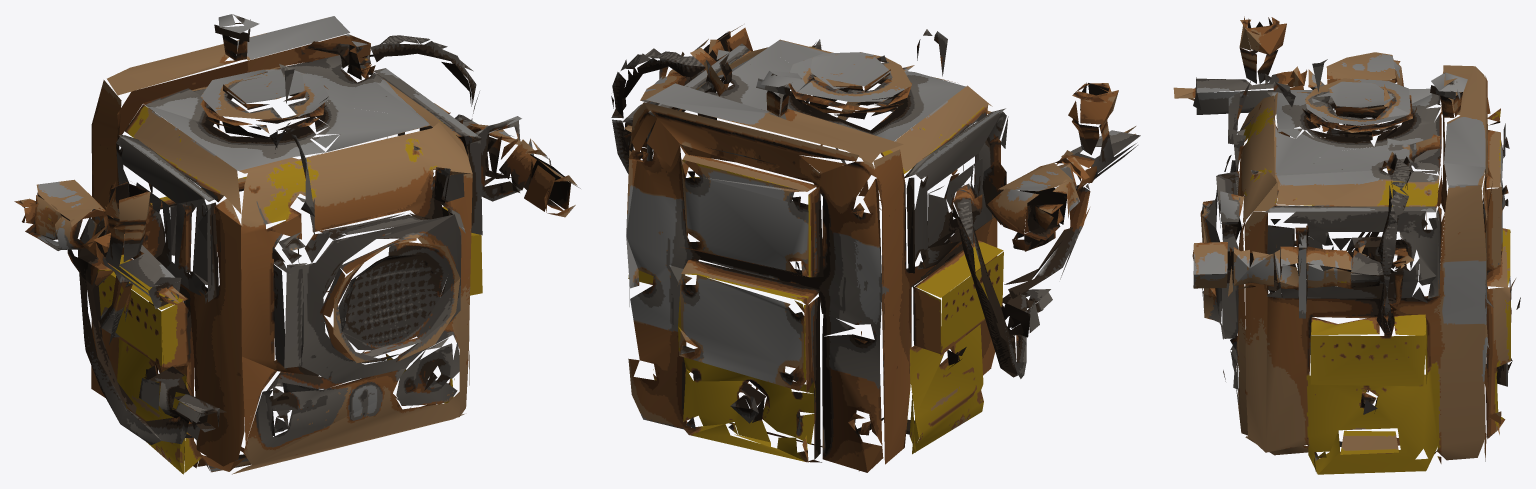
Rendered from mo_scavenger.glb.
3 renders of one model, left to right at view 1: azimuth 30°, elevation 25°; view 2: azimuth 150°, elevation 25°; view 3: azimuth 270°, elevation 25°, orthographic. The views are drawn at different scales.
Visible parts, largest first — view 1: mo_scavenger; view 2: mo_scavenger; view 3: mo_scavenger.
Part boxes in pixels (box(x1,y1,x2,y2)): mo_scavenger: box(14, 14, 580, 474); mo_scavenger: box(611, 25, 1140, 472); mo_scavenger: box(1173, 16, 1520, 474).
Bounding box in the file's own units: 0.2 × 0.1627 × 0.1461.
1 material, 1 textured.
